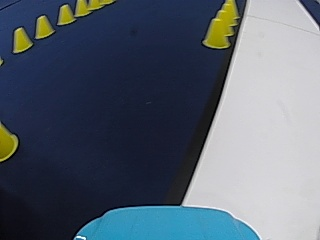cone: (201, 12, 231, 48), (1, 123, 18, 160), (218, 1, 238, 30), (12, 26, 32, 52), (34, 14, 54, 38), (56, 4, 74, 25), (74, 0, 88, 16)
